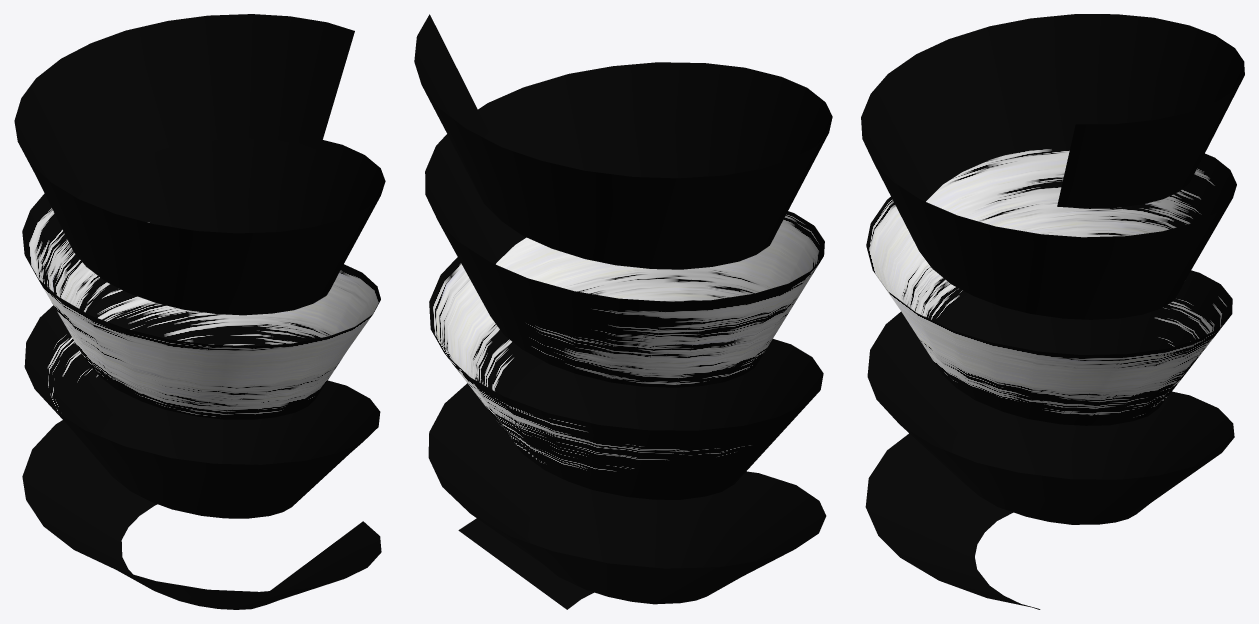
File: ys_nan1_xuanfeng1.fbx
3 views of the same model, side by side, from view 1: azimuth 30°, elevation 25°; view 2: azimuth 150°, elevation 25°; view 3: azimuth 270°, elevation 25° (orthographic). The views are drawn at different scales.
Parts seen in each view (by area): view 1: ys_nan1_xuanfeng1; view 2: ys_nan1_xuanfeng1; view 3: ys_nan1_xuanfeng1.
Boxes of the visible parts, left/top/right/bottom form: ys_nan1_xuanfeng1: left=14, top=14, right=385, bottom=609; ys_nan1_xuanfeng1: left=414, top=14, right=832, bottom=609; ys_nan1_xuanfeng1: left=861, top=14, right=1244, bottom=609.
Size of the model in its own units: 0.4526 by 0.6954 by 0.449.
1 material, 1 textured.
